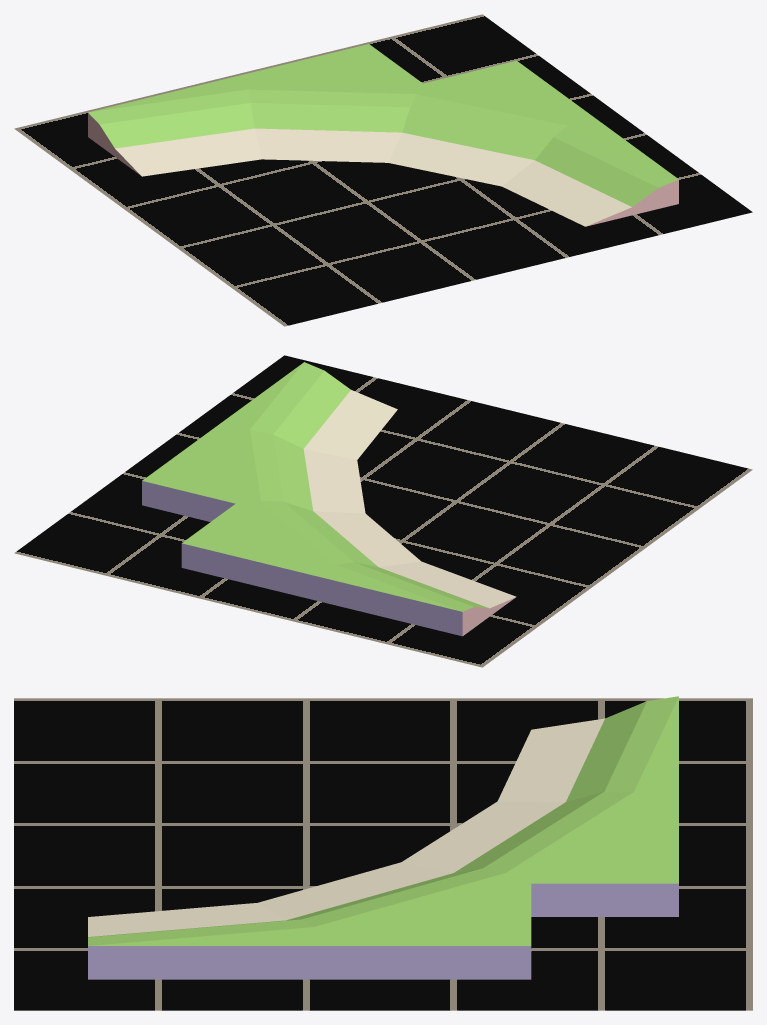
Rendered from Path_Terrain_Basic_Curve_Inner_4x4.glb.
The picture shows the model from 3 angles, top to bottom: view 1: azimuth 30°, elevation 25°; view 2: azimuth 150°, elevation 25°; view 3: azimuth 270°, elevation 25°; orthographic projection. The views are drawn at different scales.
Parts seen in each view (by area): view 1: Floor, Path_Terrain_Basic_Curve_Inner_4x4; view 2: Floor, Path_Terrain_Basic_Curve_Inner_4x4; view 3: Floor, Path_Terrain_Basic_Curve_Inner_4x4.
Boxes of the visible parts, x1=… form: Floor: x1=14, y1=14, x2=752, y2=326; Path_Terrain_Basic_Curve_Inner_4x4: x1=88, y1=44, x2=678, y2=226; Floor: x1=14, y1=355, x2=752, y2=667; Path_Terrain_Basic_Curve_Inner_4x4: x1=142, y1=362, x2=516, y2=636; Floor: x1=14, y1=698, x2=752, y2=1010; Path_Terrain_Basic_Curve_Inner_4x4: x1=88, y1=696, x2=678, y2=979.
Size of the model in its own units: 500 by 25 by 500.
Materials: 6 (1 with a texture image).
